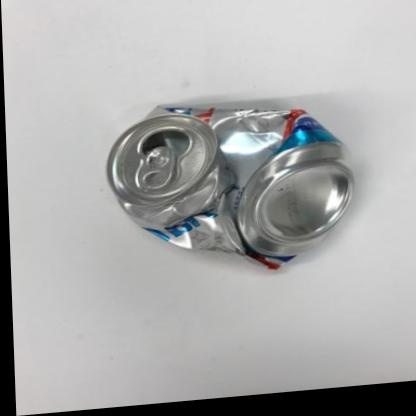trash: (107, 106, 352, 268)
